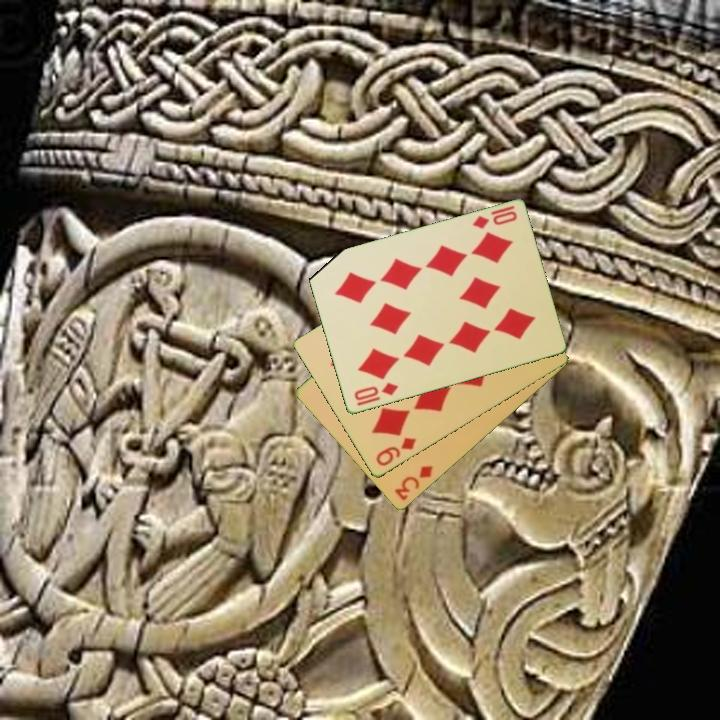10d: (350, 379, 401, 404), (469, 208, 520, 232)
3d: (391, 462, 436, 504)
9d: (372, 434, 419, 469)
